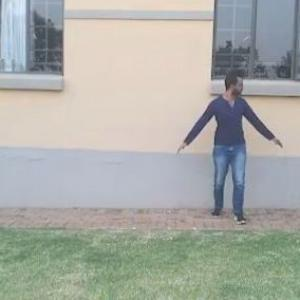land: (174, 62, 275, 230)
